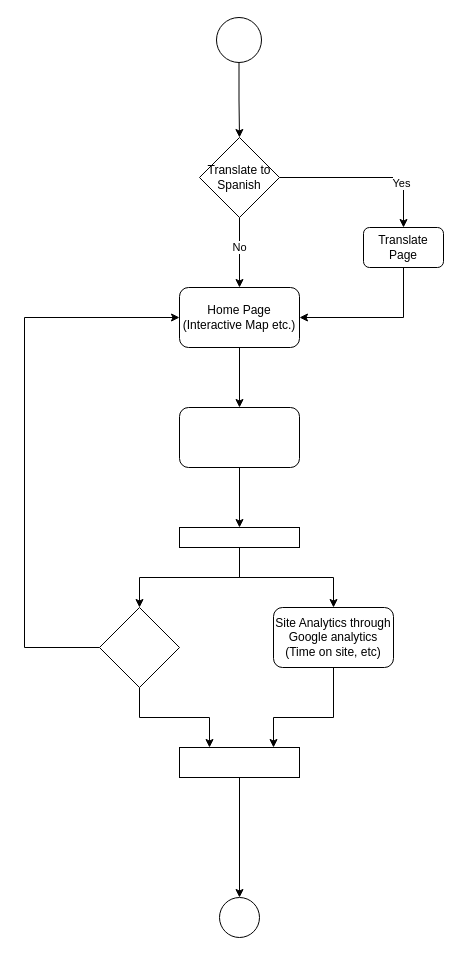
Some shapes in this 461 by 955 pixel diagram are drawn without their labels. The shapes that lost their labels are listed below. From the top down, each one's centre as x and y in pixels, then its label:
the point at 239,437: Exhibit Page (HTML template)
the point at 139,647: Back to home
